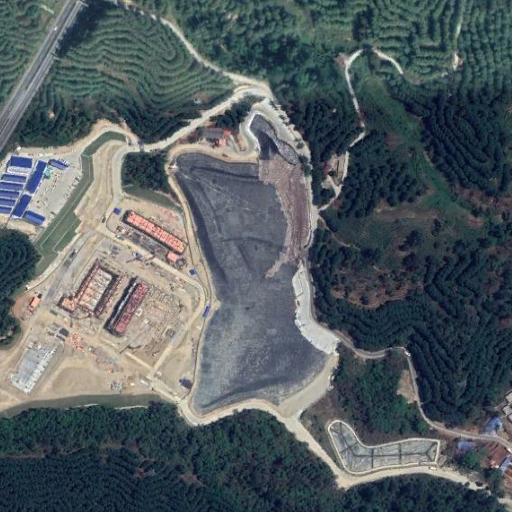lf: (172, 113, 328, 416)
